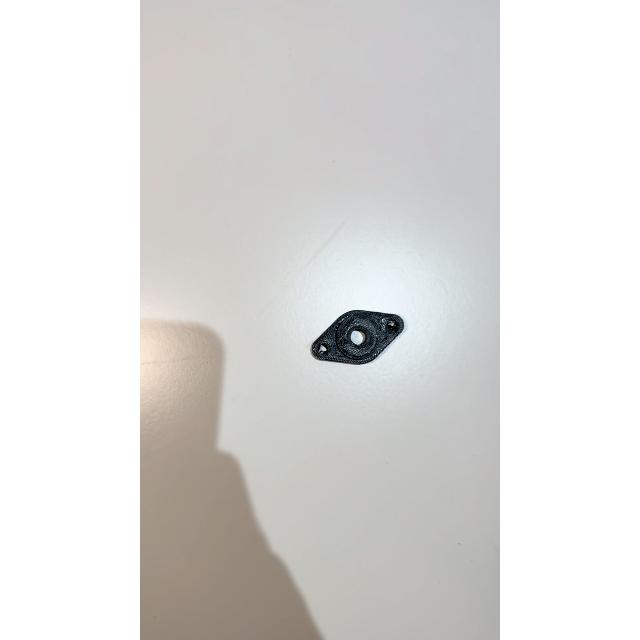Pieza_2: (291, 296, 414, 378)
